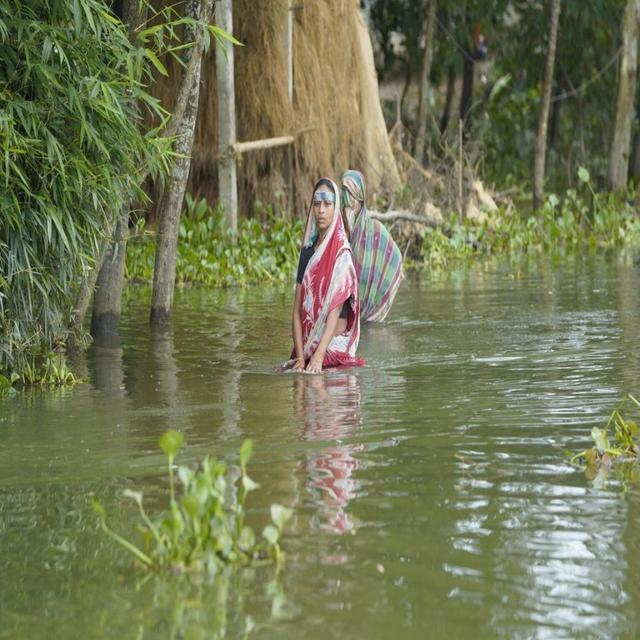Person-RiskLevel3: (281, 161, 405, 381)
